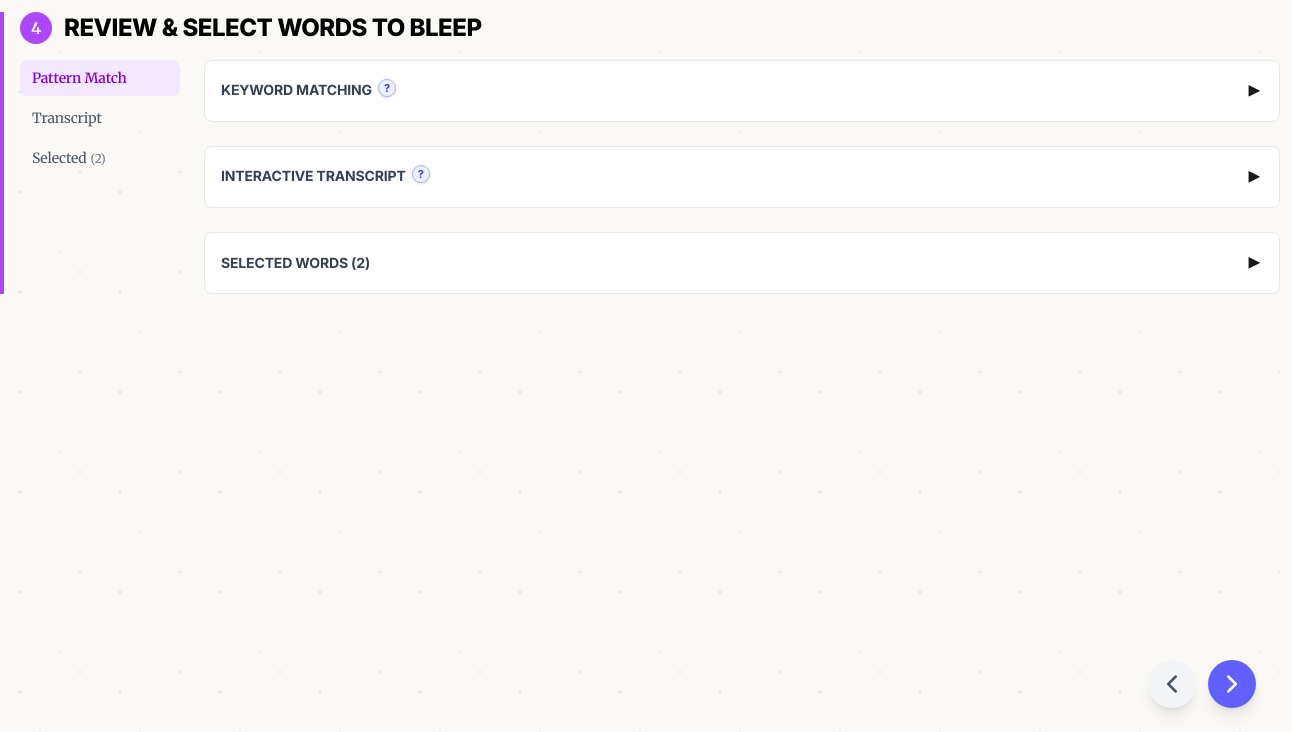
Test: ReviewMatchTab › MatchedWordsDisplay integration › shows MatchedWordsDisplay when matchedWords has items
The width and height of the screenshot is (1292, 732).
Click the button "Selected Words (2) ▼" at (289, 263), box [205, 233, 1279, 293]
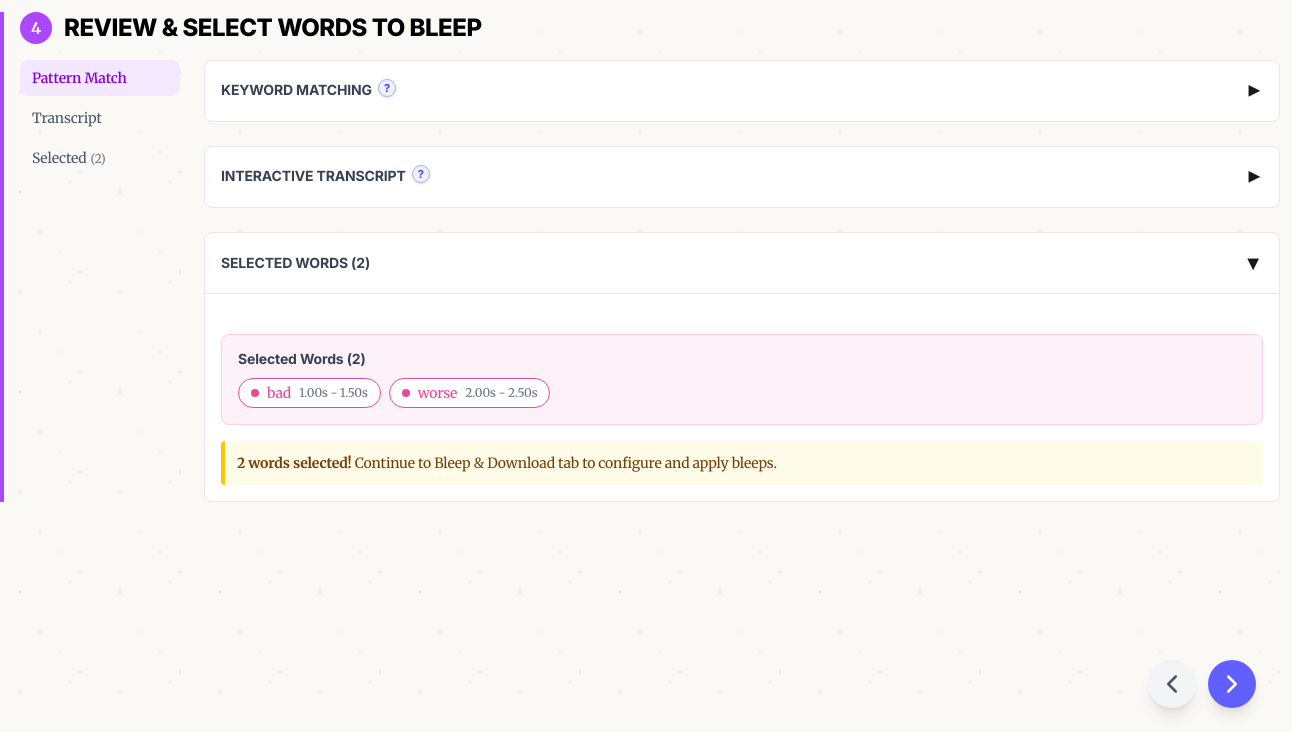
Expected: the text "bad" is shown, [267, 383, 291, 403]
Expected: the text "worse" is shown, [418, 383, 457, 403]
